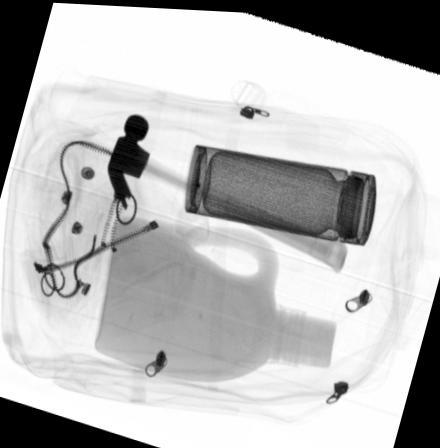Hammer: (104, 109, 348, 271)
